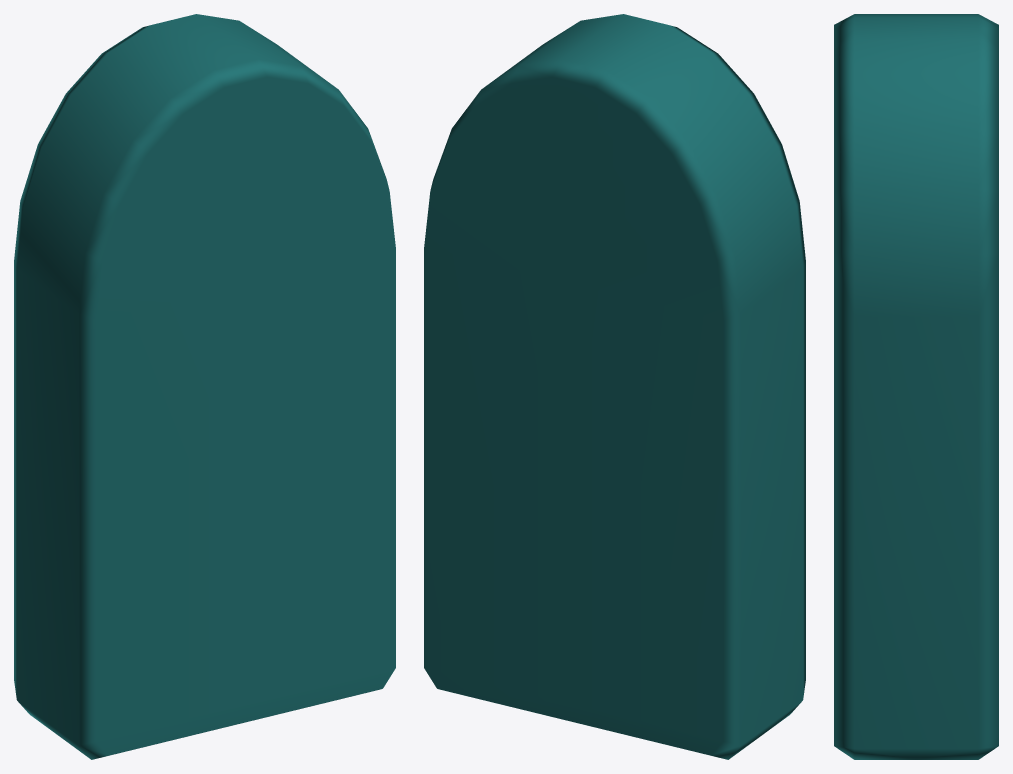
Rendered from SM_Grave_02.fbx.
3 views of the same model, side by side, from view 1: azimuth 30°, elevation 25°; view 2: azimuth 150°, elevation 25°; view 3: azimuth 270°, elevation 25° (orthographic).
Visible parts, largest first — view 1: Object036; view 2: Object036; view 3: Object036.
Part boxes in pixels (x1,y1,x2,y2): Object036: (14,14,395,759); Object036: (424,14,805,759); Object036: (834,14,998,759).
Bounding box in the file's own units: 45.07 × 90.43 × 20.46.
